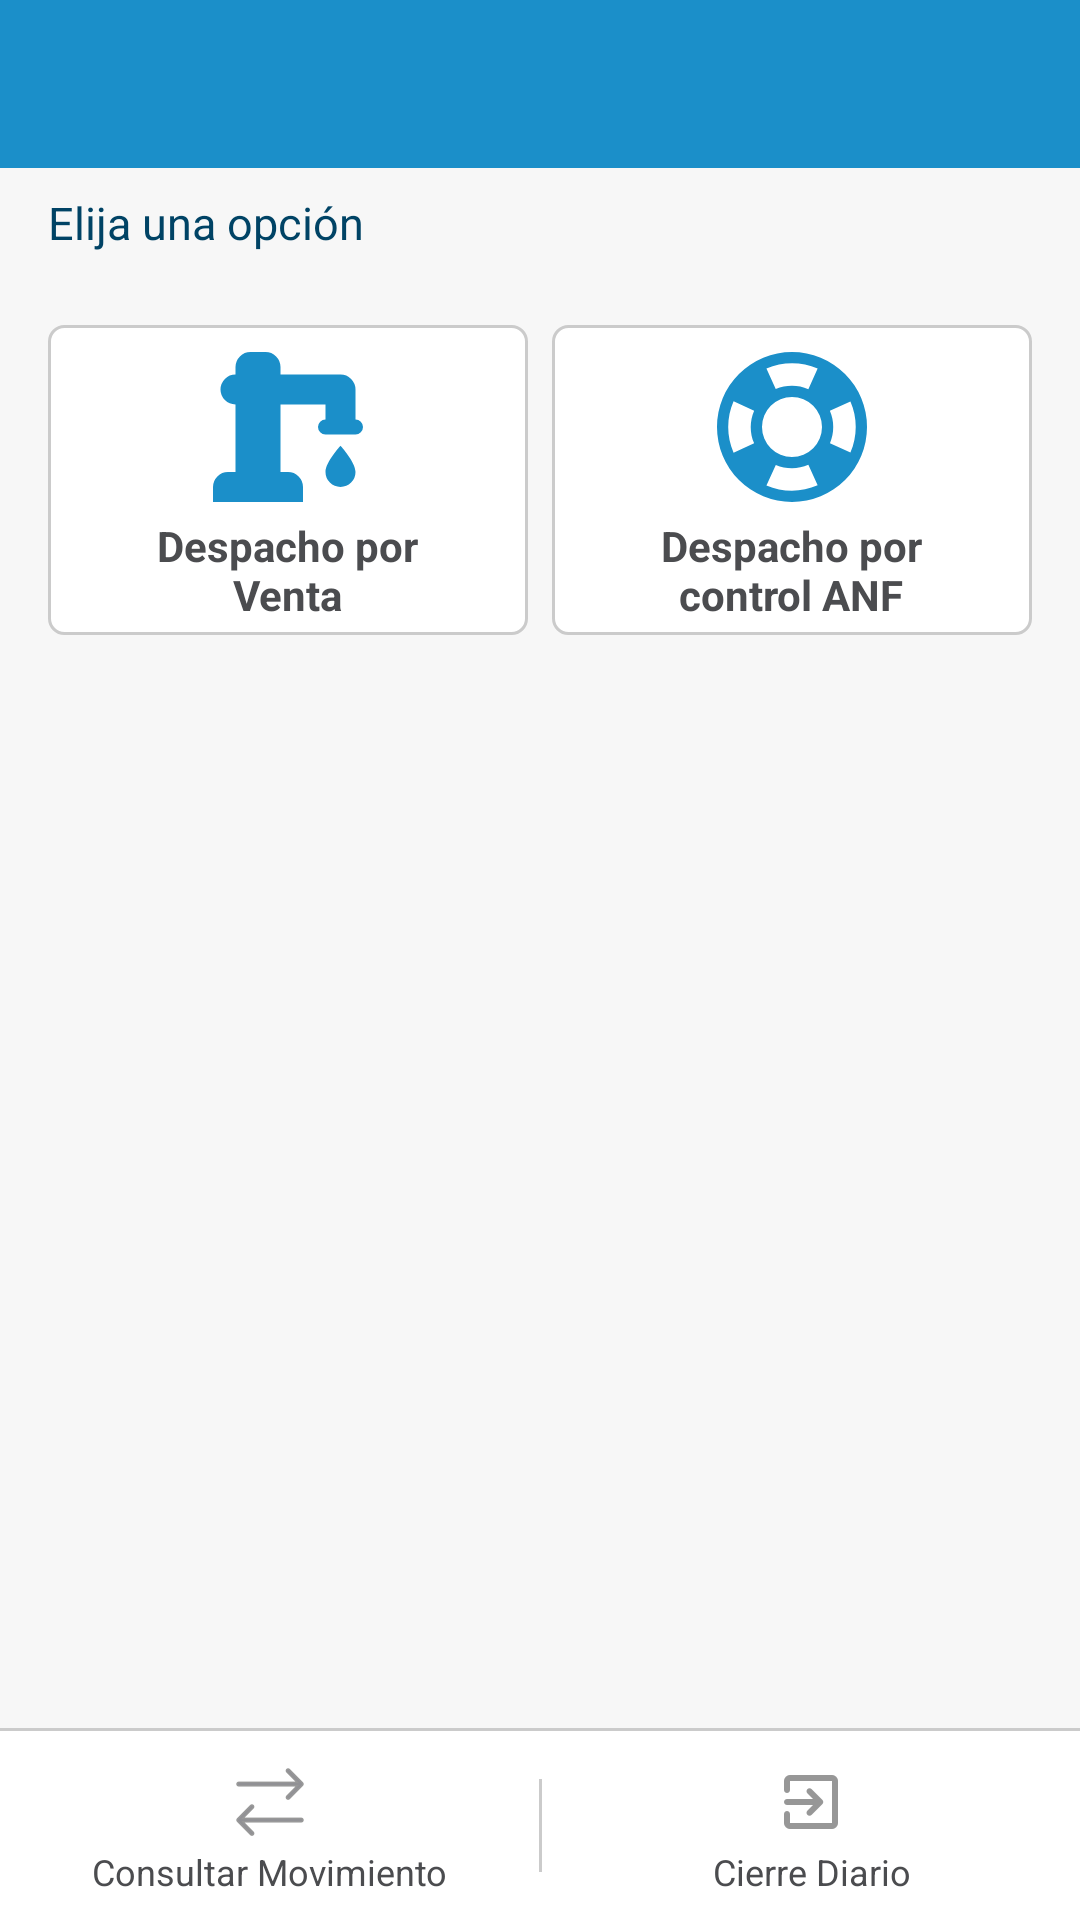

Where icons sit on this 1080×1920 app screen, as {"left": x1, "top": y1, "right": x2, "bottom": y2}:
lifebuoy: {"left": 717, "top": 352, "right": 867, "bottom": 502}
water pump: {"left": 213, "top": 352, "right": 363, "bottom": 502}
